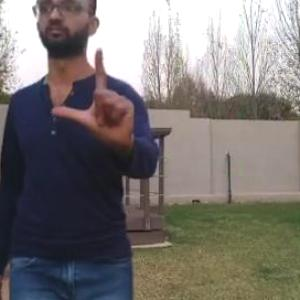land_hand: (52, 43, 138, 146)
